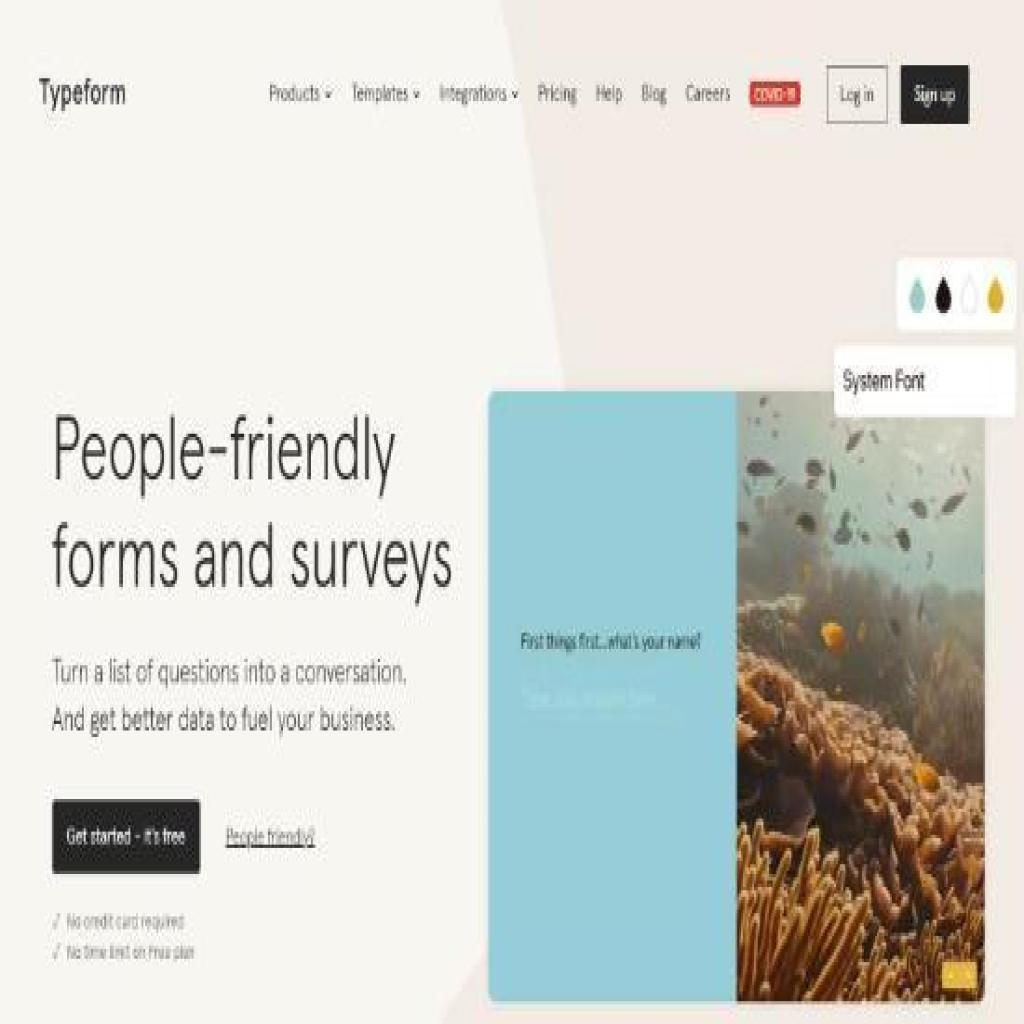button: (52, 799, 201, 874), (899, 62, 972, 127), (825, 62, 890, 127), (748, 78, 800, 111)
label: (54, 408, 456, 603), (48, 652, 410, 737), (37, 75, 127, 111), (436, 75, 521, 111), (63, 910, 188, 933), (348, 75, 423, 111), (266, 75, 335, 108), (65, 942, 196, 959), (224, 825, 316, 848), (536, 75, 579, 111), (639, 75, 672, 111), (681, 82, 732, 104), (594, 78, 624, 108)
